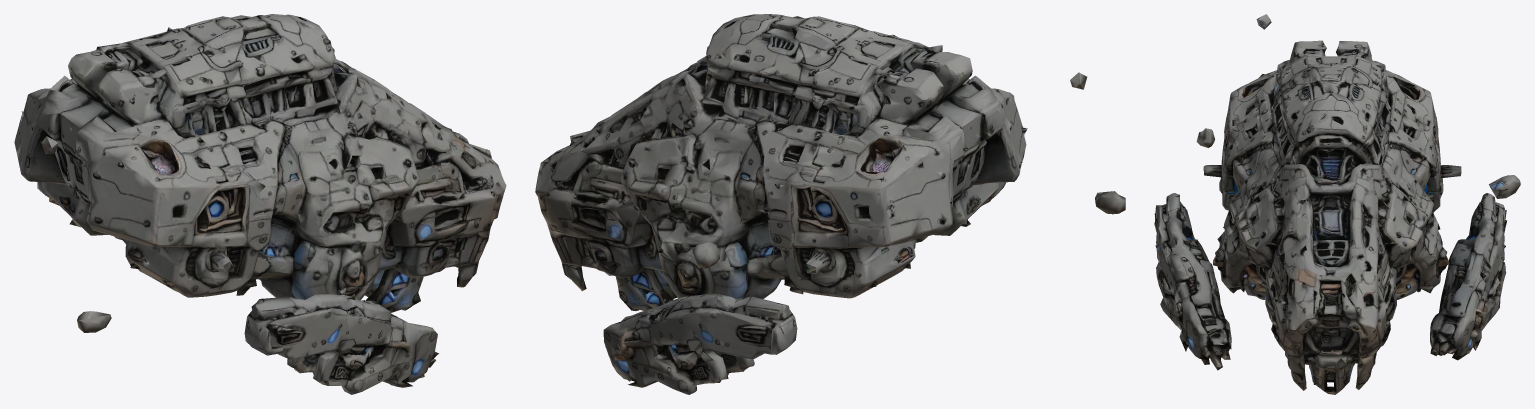
The model's file is enemy_titan.glb.
3 renders of one model, left to right at view 1: azimuth 30°, elevation 25°; view 2: azimuth 150°, elevation 25°; view 3: azimuth 270°, elevation 25°, orthographic. The views are drawn at different scales.
Visible parts, largest first — view 1: tripo_node_2985e2f7-c438-421f-8dd3-4ad3697be5ab; view 2: tripo_node_2985e2f7-c438-421f-8dd3-4ad3697be5ab; view 3: tripo_node_2985e2f7-c438-421f-8dd3-4ad3697be5ab.
Part boxes in pixels (x1,y1,x2,y2): tripo_node_2985e2f7-c438-421f-8dd3-4ad3697be5ab: [14, 14, 506, 394]; tripo_node_2985e2f7-c438-421f-8dd3-4ad3697be5ab: [535, 14, 1125, 394]; tripo_node_2985e2f7-c438-421f-8dd3-4ad3697be5ab: [1154, 14, 1520, 394].
Size of the model in its own units: 0.9957 by 0.6468 by 0.849.
1 material, 1 textured.
